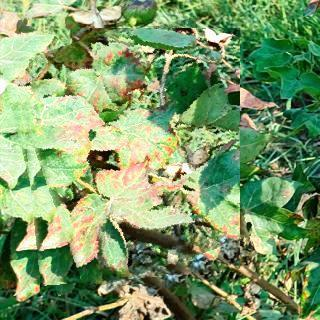blight: (14, 28, 240, 286)
